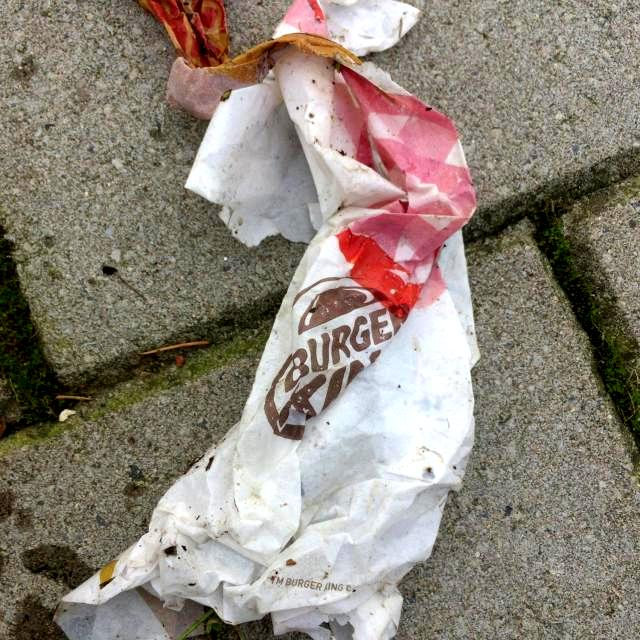Paper: (51, 0, 482, 640)
